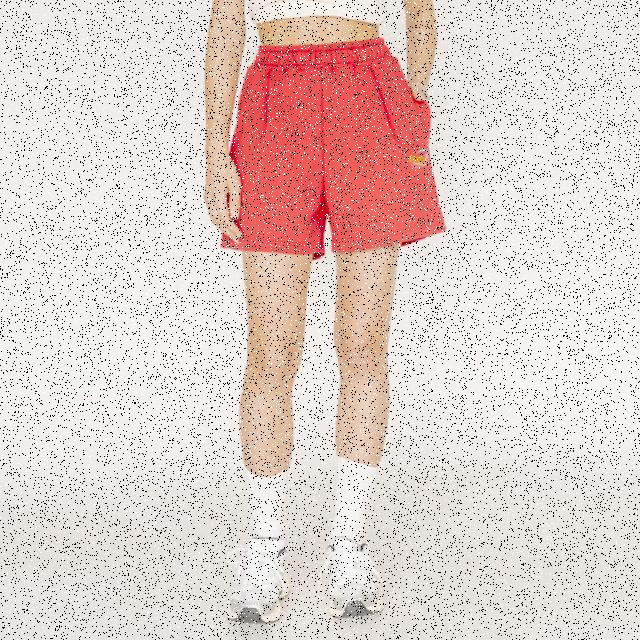dress: (214, 49, 456, 242)
